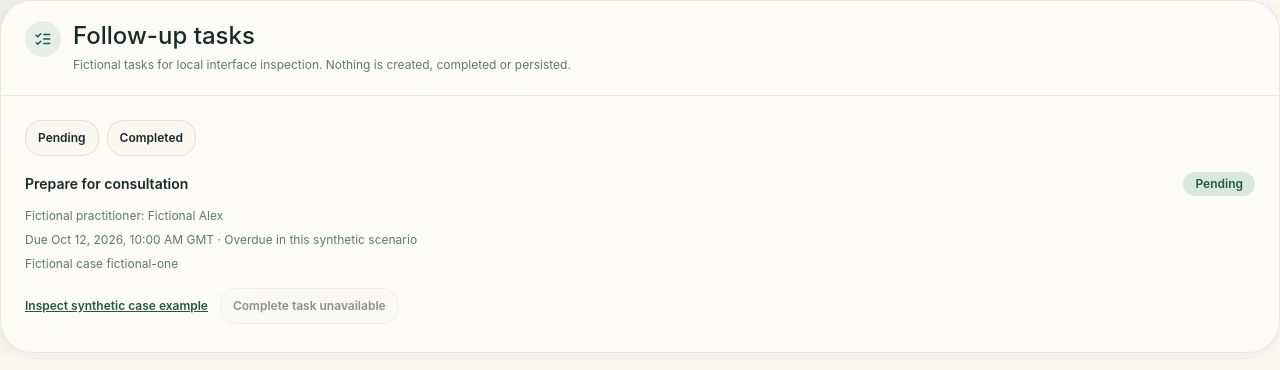
it: FE-022 follow-up presentation › demonstrates scoped pending/completed tasks, due dates and disabled mutations
This screenshot has width=1280, height=370.
Expected: the heading "Prepare for consultation" is shown, left=25, top=174, right=188, bottom=194
Expected: the text "Overdue in this synthetic scenario" is shown, left=214, top=232, right=417, bottom=247
Click the button "Completed".
click(151, 138)  # box left=107, top=120, right=196, bottom=156
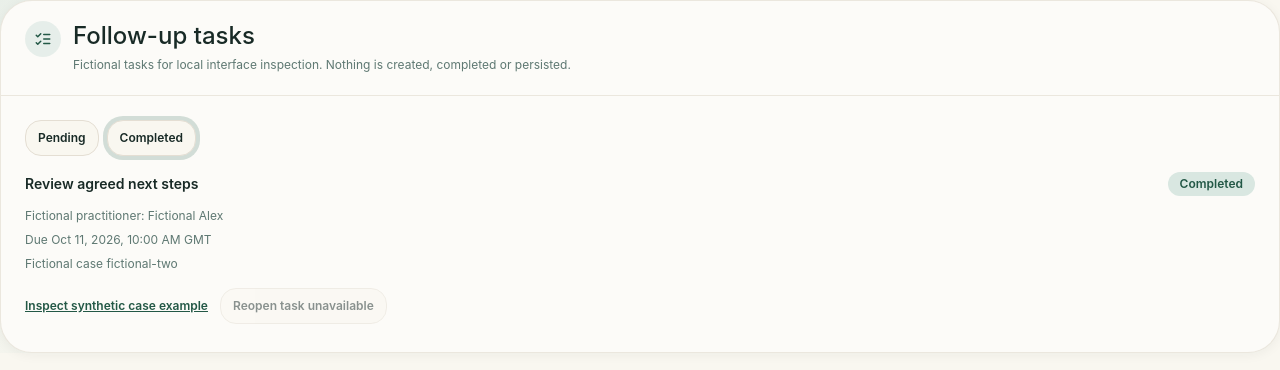
Expected: the button "Reopen task unavailable" is disabled, left=220, top=288, right=387, bottom=324
Expected: the heading "Review agreed next steps" is shown, left=25, top=174, right=198, bottom=194
Expected: the heading "Prepare for consultation" is gone
